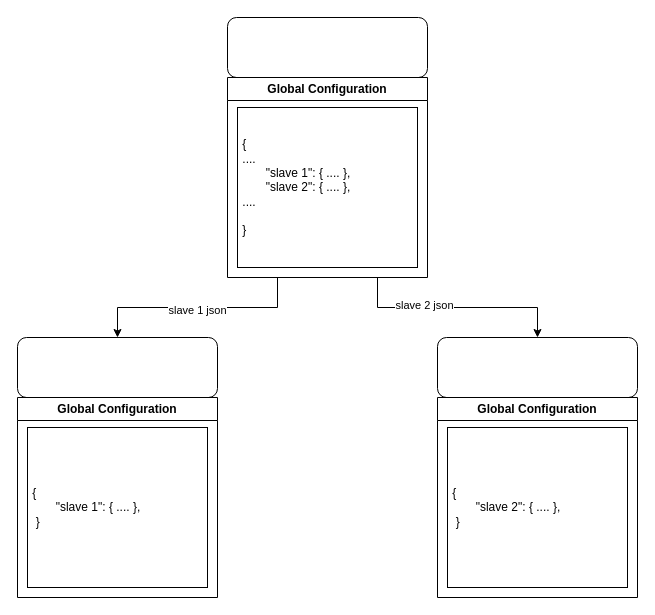
Some shapes in this 655 by 615 pixel diagram are drawn without their labels. Each missing label, with the centre of its shape:
"Master Coordinator" goes at point 327,47.
"Slave Coordinator 1" goes at point 117,367.
"Slave Coordinator 2" goes at point 537,367.
